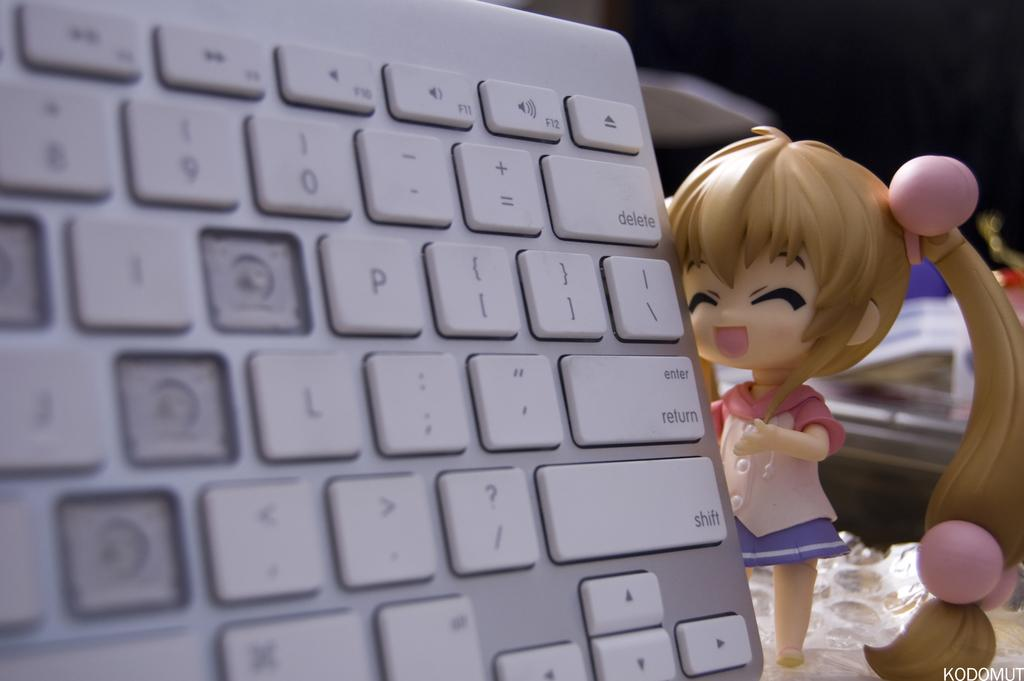Computer-keyboard: (0, 0, 769, 680)
